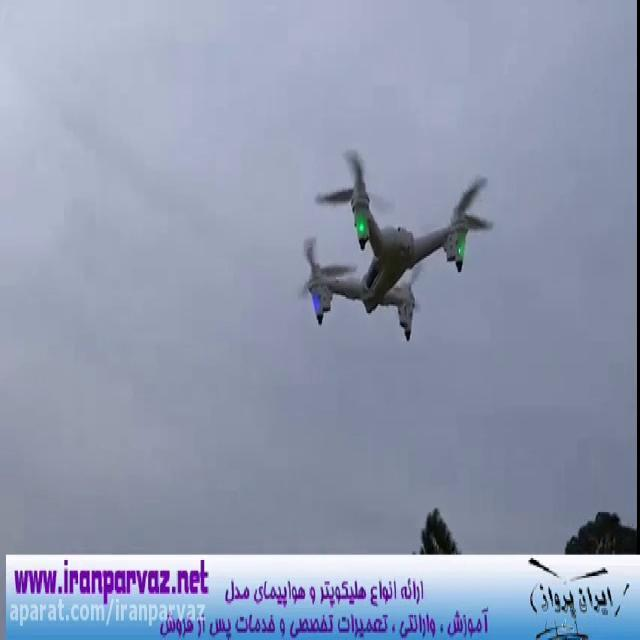drone: (290, 137, 498, 345)
